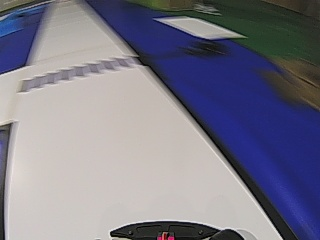CrossWalk: (25, 56, 134, 88)
